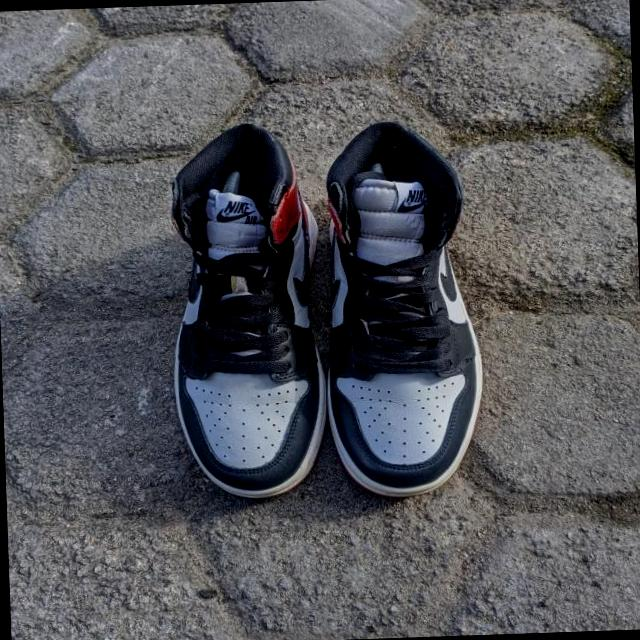nike_fake_jordan: (314, 116, 492, 498), (159, 122, 330, 502)
